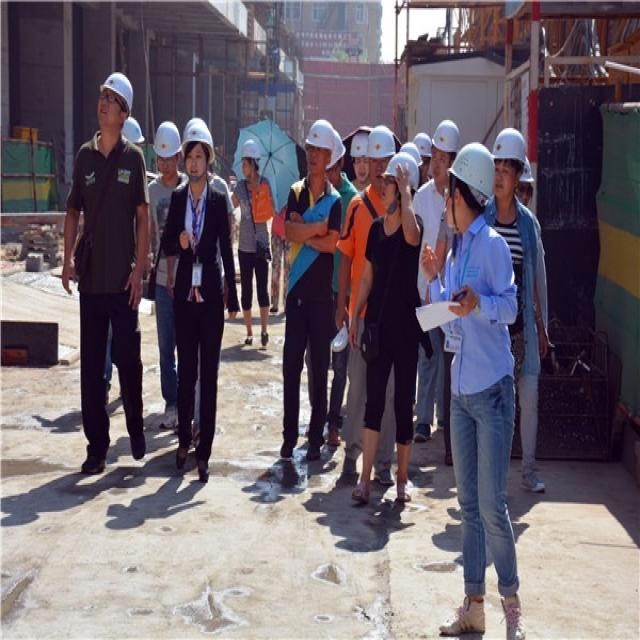Con_Casco: (99, 71, 133, 138), (181, 123, 215, 181), (303, 119, 333, 174)
